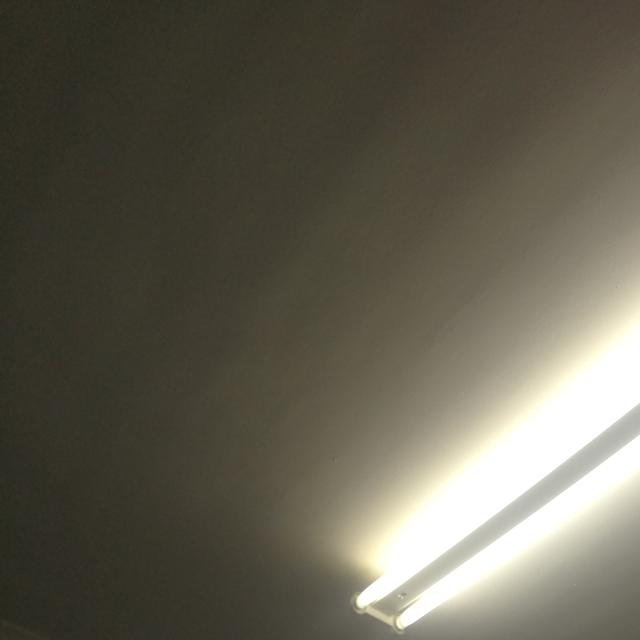fluorescent tube: (321, 161, 640, 640)
